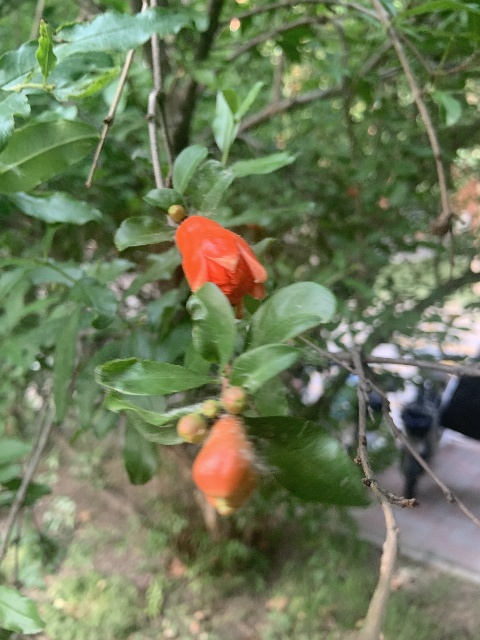bud: (192, 416, 258, 513), (176, 413, 207, 444), (221, 385, 246, 415), (166, 204, 187, 223)
flower: (174, 216, 267, 317)
